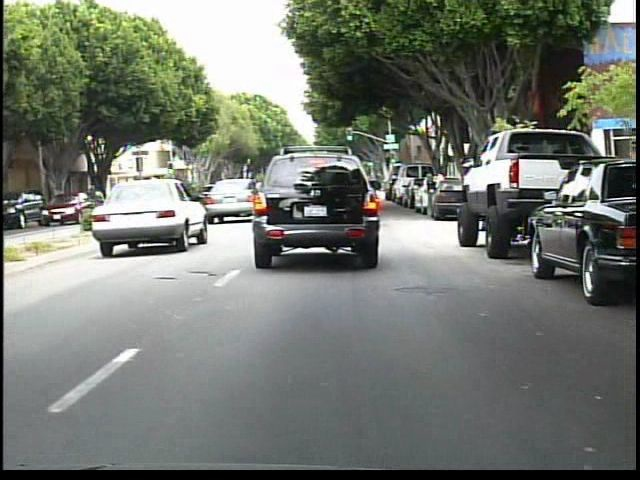person: (422, 173, 439, 222), (431, 166, 447, 212)
